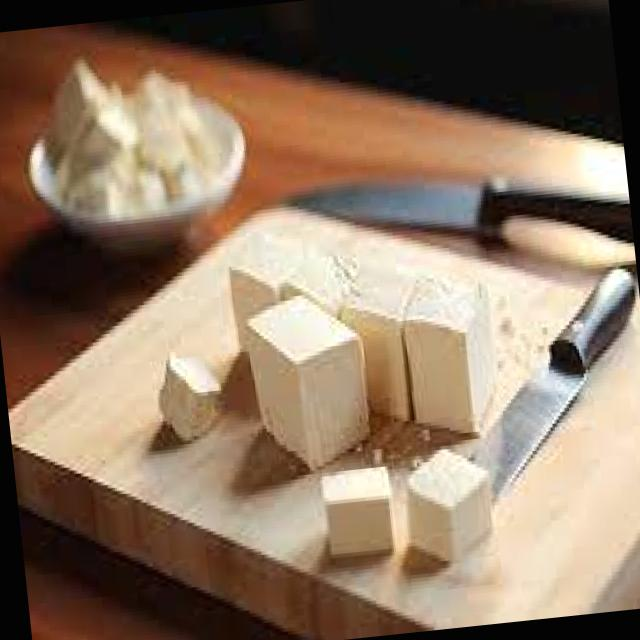tof: (215, 194, 516, 483)
